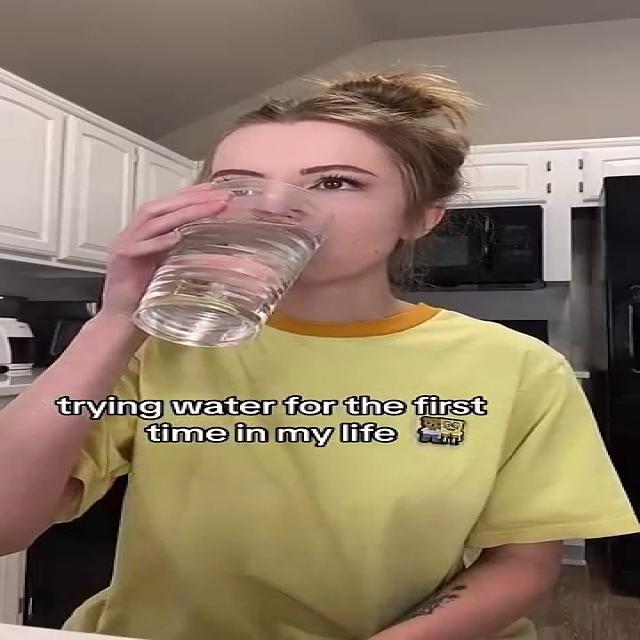Cup: (128, 176, 325, 347)
Hand: (95, 181, 241, 318)
Mouth: (240, 232, 344, 245)
